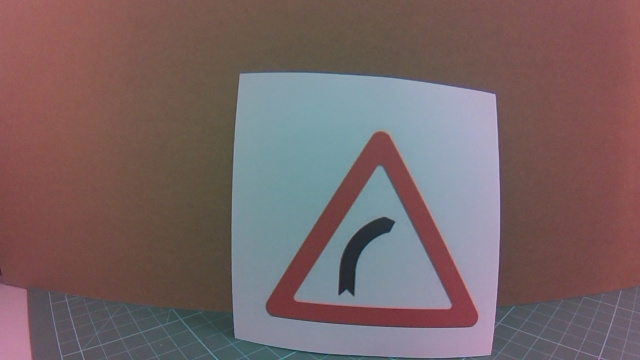right: (264, 154, 442, 330)
